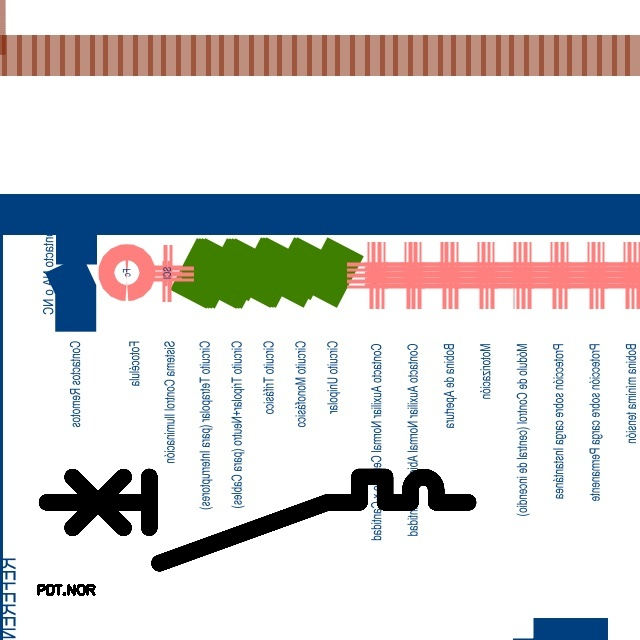interruptor_termomagnetico: (36, 466, 479, 574)
